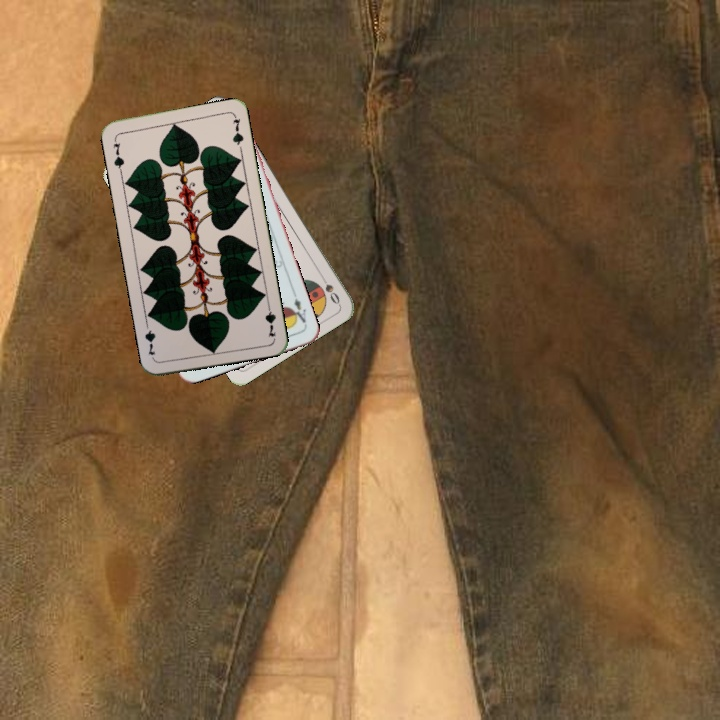EA: (287, 289, 309, 326)
G7: (261, 299, 279, 340), (109, 134, 127, 175)
SO: (316, 270, 343, 307)
